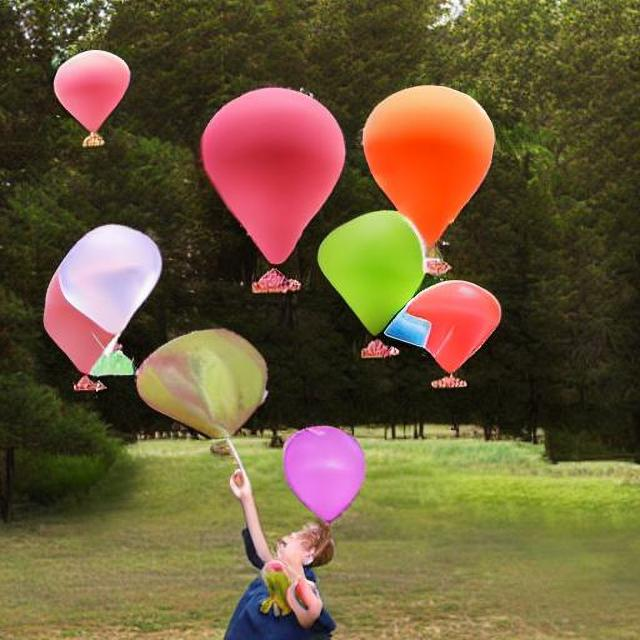balloon: (321, 84, 497, 366), (194, 85, 342, 262), (40, 224, 167, 390), (132, 324, 269, 442), (284, 418, 364, 527), (51, 46, 130, 144)
